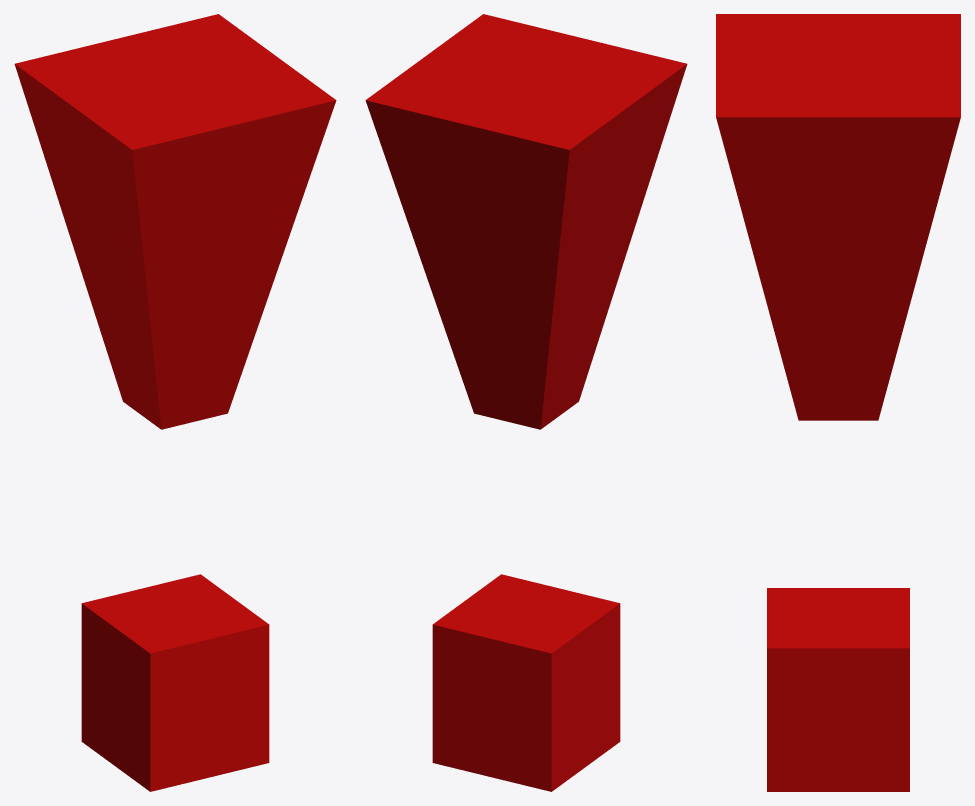
File: ExclamationPointRed.fbx
The picture shows the model from 3 angles, left to right: view 1: azimuth 30°, elevation 25°; view 2: azimuth 150°, elevation 25°; view 3: azimuth 270°, elevation 25°; orthographic projection. The views are drawn at different scales.
Parts seen in each view (by area): view 1: Cube; view 2: Cube; view 3: Cube.
Part boxes in pixels (x1,y1,x2,y2): Cube: (14, 14, 336, 791); Cube: (365, 14, 687, 791); Cube: (716, 14, 960, 791).
Bounding box in the file's own units: 36.32 × 36.32 × 114.
